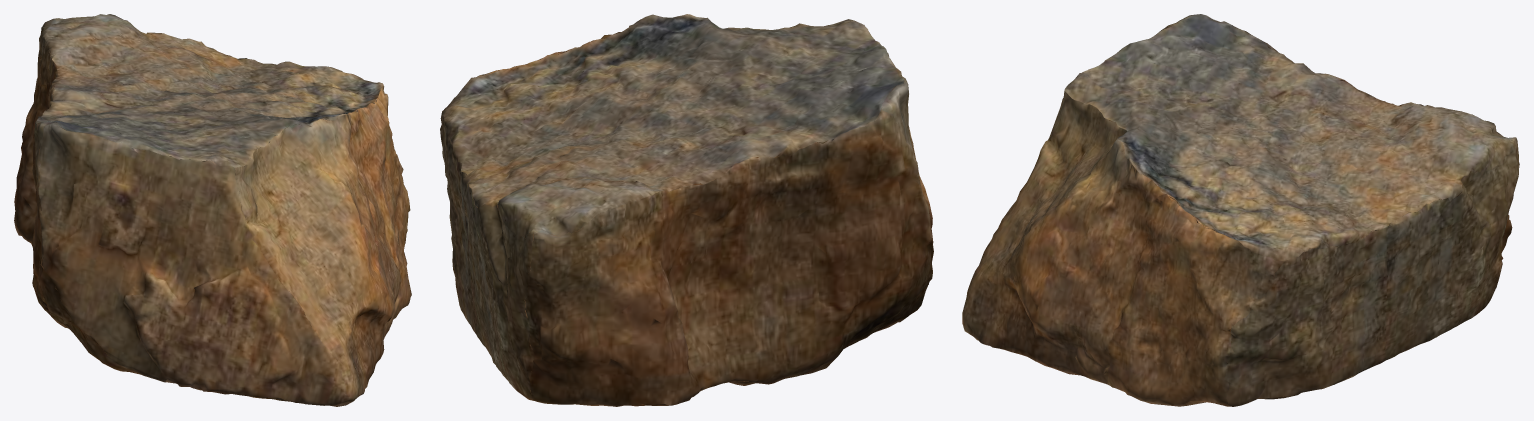
Rendered from namaqualand_boulder_03.glb.
The picture shows the model from 3 angles, left to right: view 1: azimuth 30°, elevation 25°; view 2: azimuth 150°, elevation 25°; view 3: azimuth 270°, elevation 25°; orthographic projection. The views are drawn at different scales.
Visible parts, largest first — view 1: boulder_03_LOD0; view 2: boulder_03_LOD0; view 3: boulder_03_LOD0.
Part boxes in pixels (x1=…): boulder_03_LOD0: x1=14, y1=14, x2=411, y2=406; boulder_03_LOD0: x1=440, y1=14, x2=933, y2=406; boulder_03_LOD0: x1=962, y1=14, x2=1519, y2=406.
Bounding box in the file's own units: 2.4 × 1.47 × 3.07.
1 material, 1 textured.
